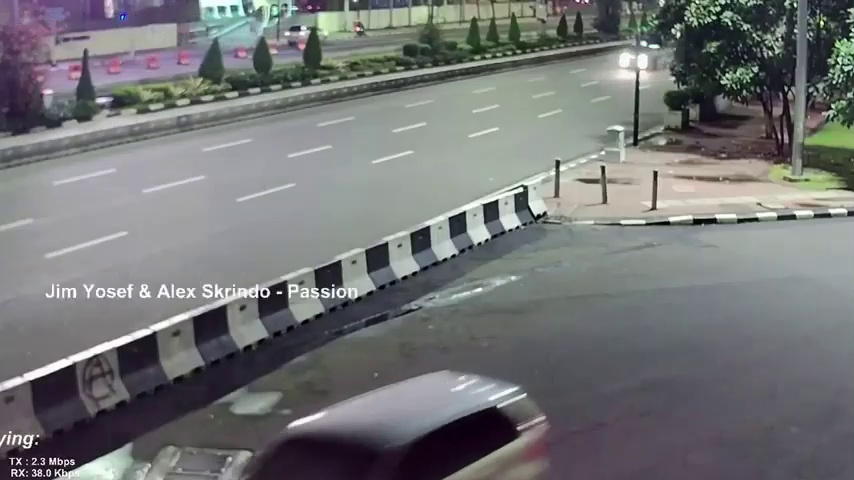car: (620, 41, 662, 72), (287, 24, 322, 52)
